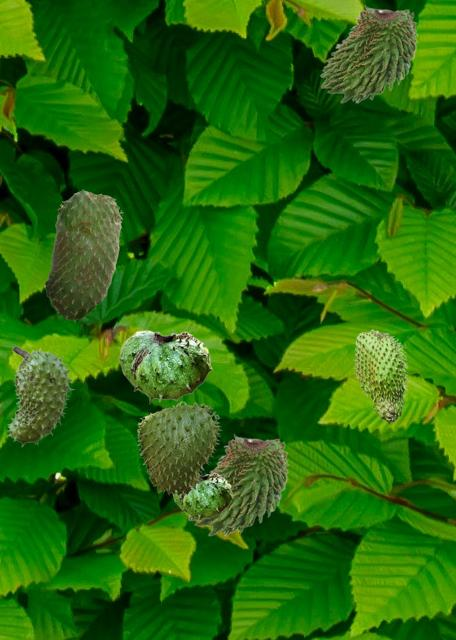guyabano: (187, 433, 288, 535), (44, 189, 122, 321), (319, 4, 417, 102), (137, 401, 221, 497), (6, 346, 74, 446), (118, 330, 211, 403), (353, 329, 408, 423), (172, 472, 232, 520)
